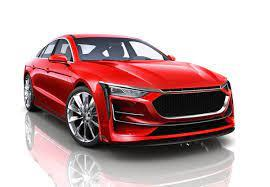car: (18, 30, 245, 152)
